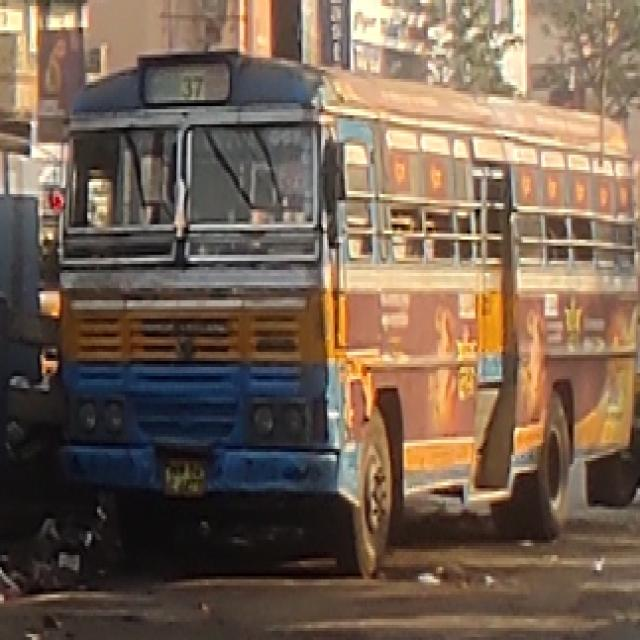bus: (45, 73, 640, 561)
